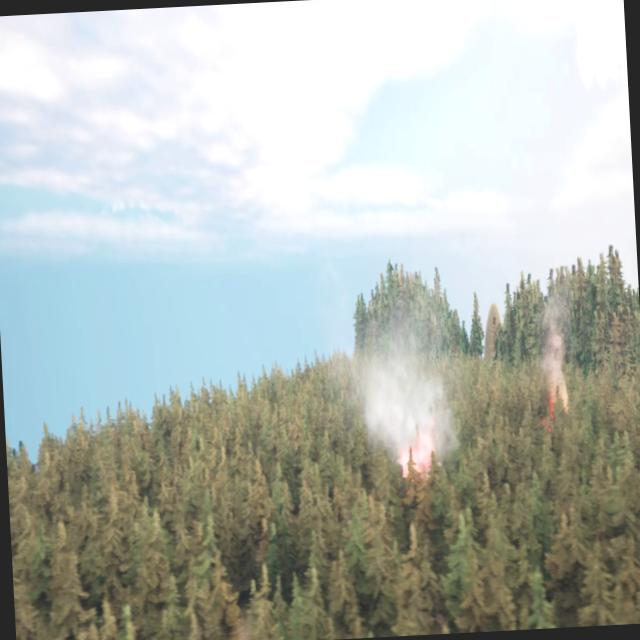smoke: (341, 313, 458, 475), (540, 290, 578, 421)
